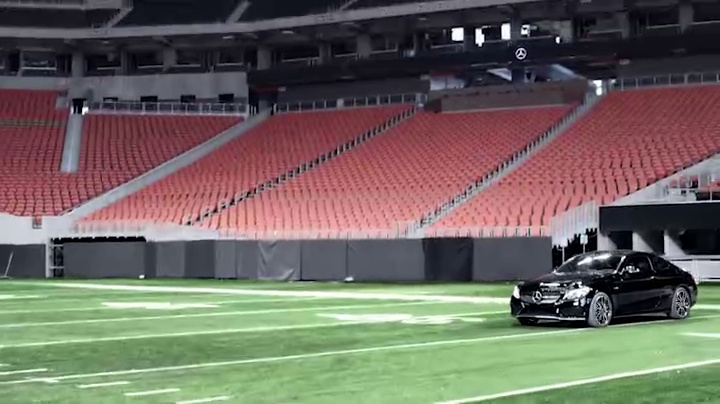amg: (504, 250, 704, 326)
